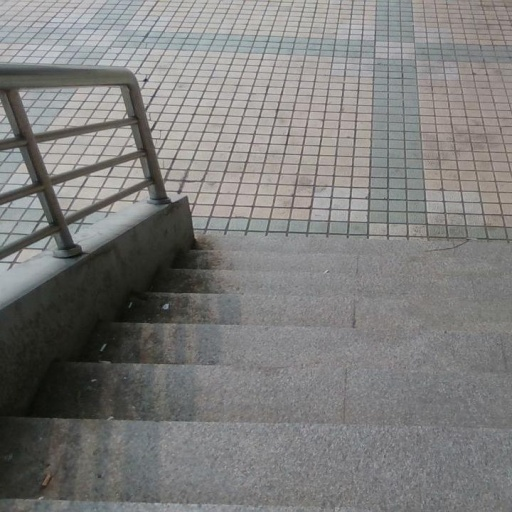Stairs: (0, 235, 512, 512)
